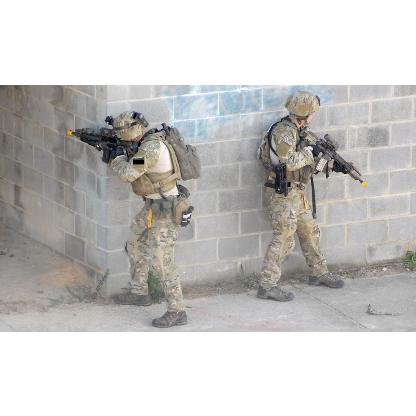gun: (291, 127, 367, 185), (68, 127, 138, 160), (266, 162, 290, 194)
